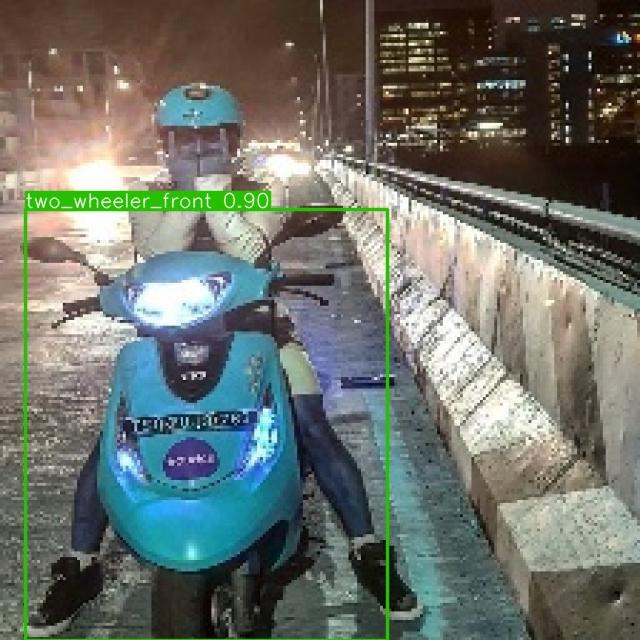two_wheeler_front: (11, 189, 344, 640)
